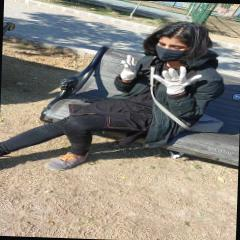gloved: (153, 66, 200, 94), (121, 55, 139, 80)
